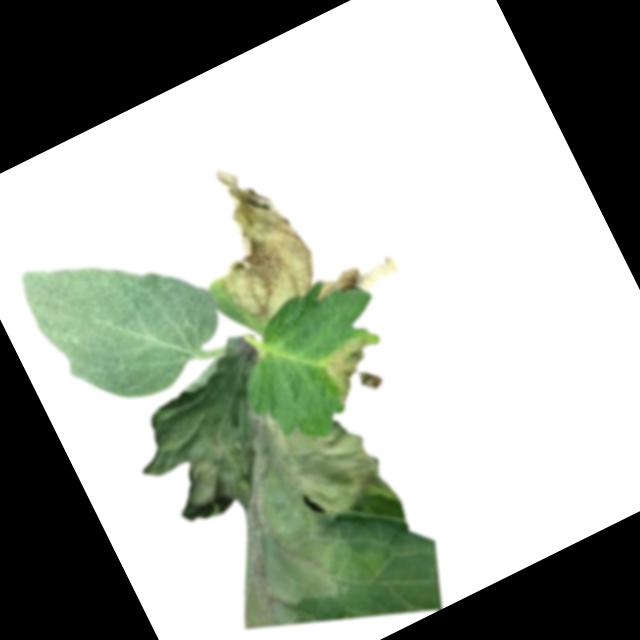Late_blight: (106, 305, 430, 640), (172, 149, 326, 328), (313, 328, 395, 410), (311, 247, 401, 313)
healthy: (13, 204, 239, 429)
